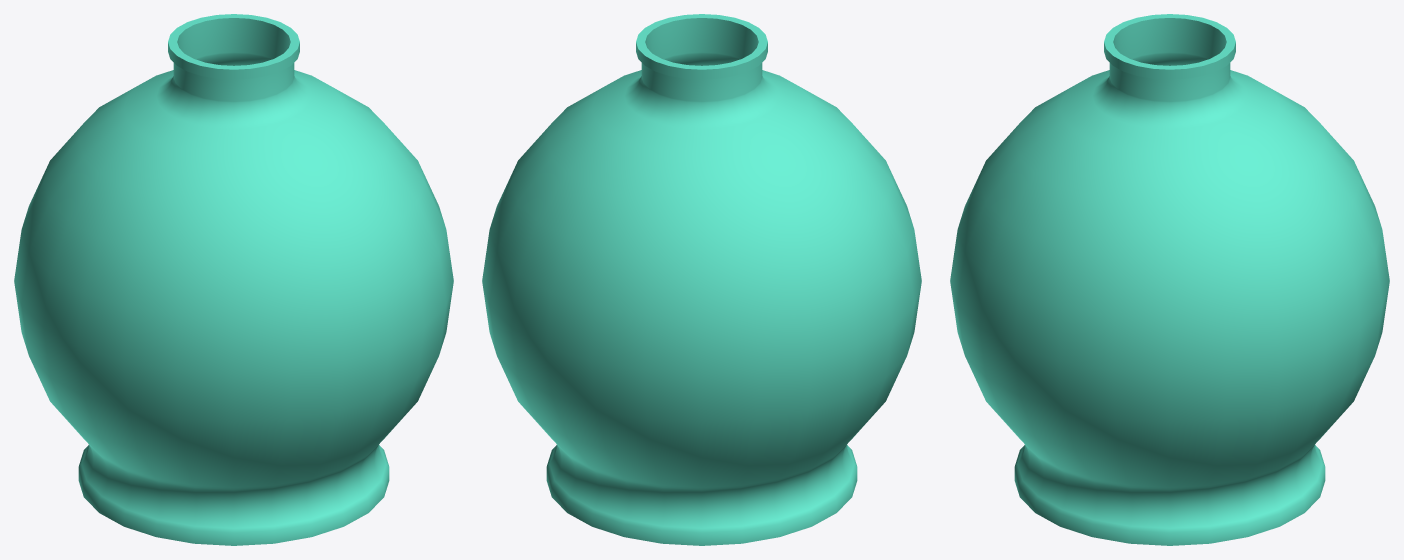
3 views of the same model, side by side, from view 1: azimuth 30°, elevation 25°; view 2: azimuth 150°, elevation 25°; view 3: azimuth 270°, elevation 25° (orthographic).
Visible parts, largest first — view 1: mesh1_mesh1-geometry; view 2: mesh1_mesh1-geometry; view 3: mesh1_mesh1-geometry.
Boxes of the visible parts, <box> form: mesh1_mesh1-geometry: <box>14,14,453,545</box>; mesh1_mesh1-geometry: <box>482,14,921,545</box>; mesh1_mesh1-geometry: <box>950,14,1389,545</box>.
Size of the model in its own units: 0.5581 by 0.614 by 0.5581.
